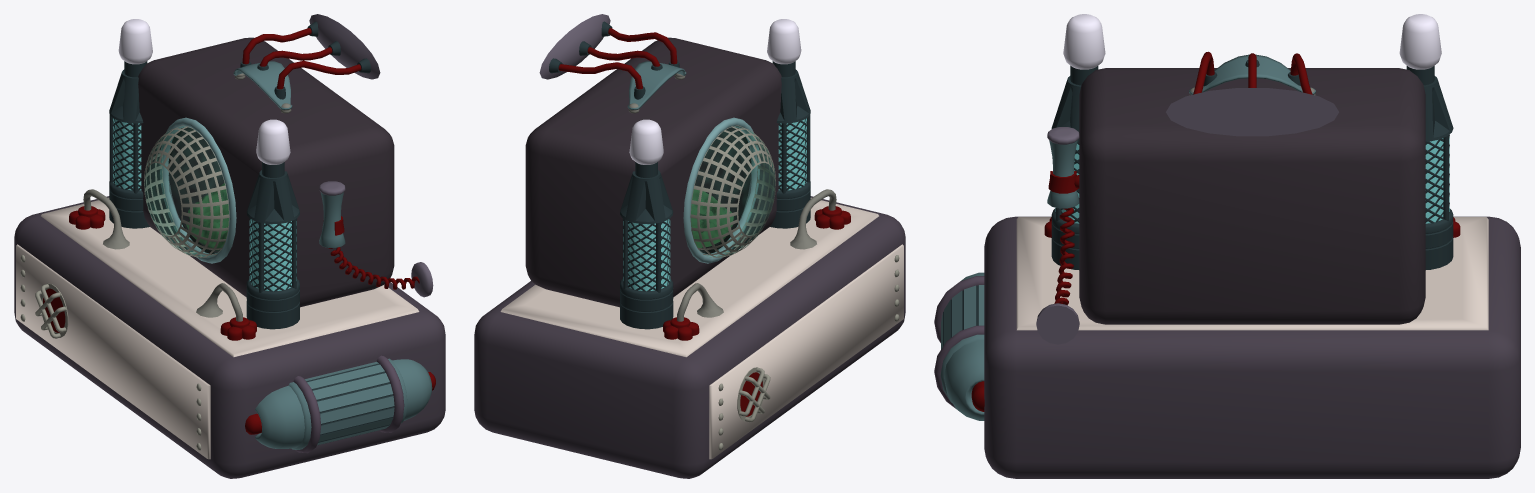
Rendered from EM_119_radar.glb.
3 views of the same model, side by side, from view 1: azimuth 30°, elevation 25°; view 2: azimuth 150°, elevation 25°; view 3: azimuth 270°, elevation 25° (orthographic). The views are drawn at different scales.
Parts seen in each view (by area): view 1: support_structure, radar_body, antenna_towers, power_engine, cables_top, radar_screen_grid, radar_screen_sphere_texture, energy_flowers, trail_out, radar_screen_frame, microphone, ventilation_hole (+2 smaller); view 2: support_structure, radar_body, antenna_towers, cables_top, radar_screen_grid, radar_screen_sphere_texture, energy_flowers, trail_out, radar_screen_frame, ventilation_hole, emerald_moon; view 3: support_structure, radar_body, antenna_towers, cables_top, power_engine, microphone, microphone_cable.
Boxes of the visible parts, left/top/right/bottom form: support_structure: left=14, top=196, right=445, bottom=478; radar_body: left=138, top=37, right=394, bottom=307; antenna_towers: left=109, top=19, right=299, bottom=329; power_engine: left=245, top=355, right=435, bottom=453; cables_top: left=233, top=14, right=380, bottom=113; radar_screen_grid: left=144, top=125, right=229, bottom=257; radar_screen_sphere_texture: left=144, top=126, right=228, bottom=256; energy_flowers: left=69, top=189, right=256, bottom=340; trail_out: left=168, top=128, right=228, bottom=252; radar_screen_frame: left=159, top=117, right=236, bottom=263; microphone: left=319, top=181, right=433, bottom=297; ventilation_hole: left=35, top=283, right=68, bottom=338; support_structure: left=474, top=196, right=905, bottom=478; radar_body: left=525, top=37, right=781, bottom=307; antenna_towers: left=620, top=19, right=810, bottom=329; cables_top: left=539, top=14, right=686, bottom=113; radar_screen_grid: left=690, top=125, right=775, bottom=257; radar_screen_sphere_texture: left=691, top=126, right=775, bottom=256; energy_flowers: left=663, top=189, right=850, bottom=340; trail_out: left=691, top=128, right=751, bottom=252; radar_screen_frame: left=683, top=117, right=760, bottom=263; ventilation_hole: left=737, top=367, right=770, bottom=422; emerald_moon: left=691, top=189, right=733, bottom=247; support_structure: left=984, top=216, right=1520, bottom=478; radar_body: left=1079, top=68, right=1425, bottom=324; antenna_towers: left=1051, top=14, right=1453, bottom=269; cables_top: left=1166, top=51, right=1338, bottom=136; power_engine: left=934, top=272, right=984, bottom=420; microphone: left=1036, top=127, right=1079, bottom=344; microphone_cable: left=1054, top=207, right=1074, bottom=305.
Bounding box in the file's own units: 2.38 × 3.07 × 4.07.
